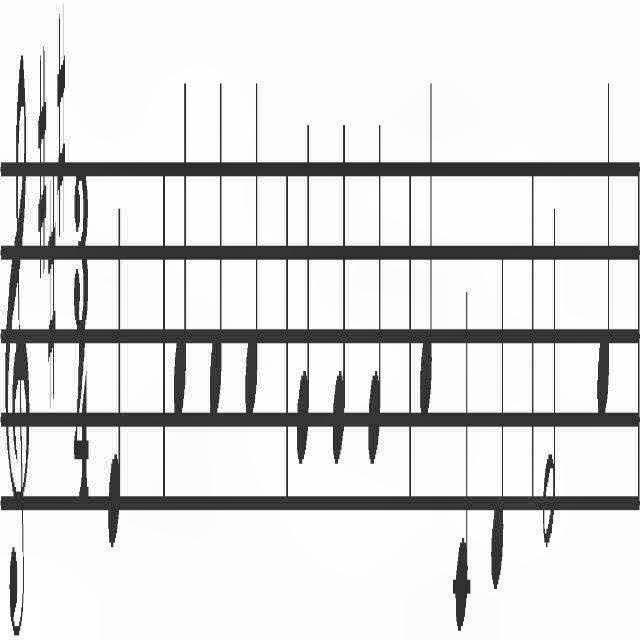Bass-clef: (0, 0, 32, 640)
Diez: (47, 156, 57, 400), (57, 0, 66, 220), (38, 44, 46, 270)
Half-note: (540, 190, 558, 598)
Quarter-note: (592, 37, 620, 435), (414, 48, 438, 464), (364, 111, 388, 486), (447, 252, 469, 640), (484, 248, 508, 596), (326, 118, 350, 462), (204, 66, 226, 438), (240, 41, 260, 447), (105, 170, 124, 556), (169, 70, 189, 430), (295, 108, 313, 482)
